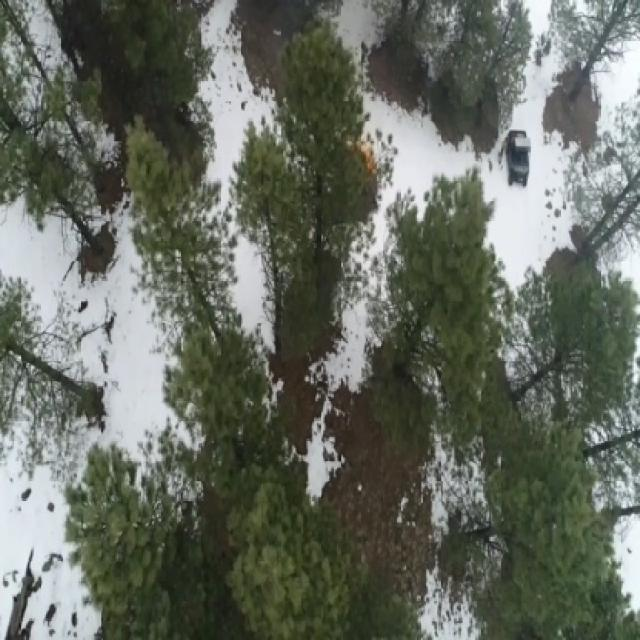Fire: (367, 151, 375, 169)
